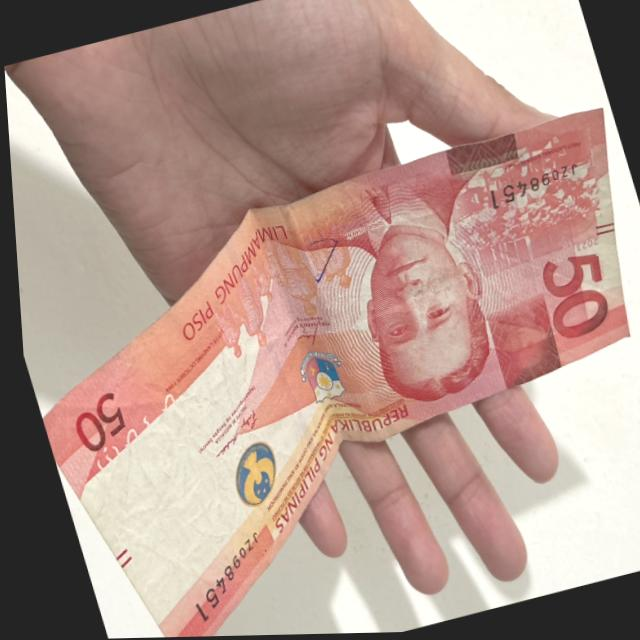concealed_value: (478, 296, 560, 390)
security_thread: (214, 242, 325, 487)
see_through_mark: (83, 379, 187, 487)
serial_number: (172, 521, 266, 632), (476, 149, 588, 218)
value: (522, 233, 619, 347)
